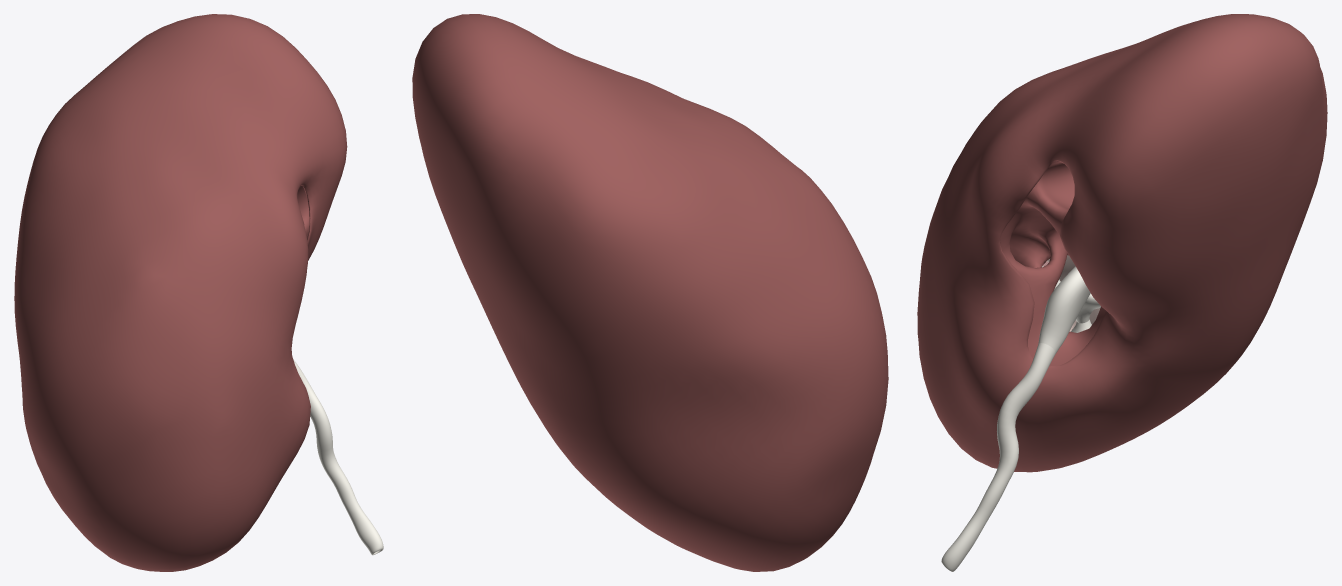
Rendered from VH_F_Kidney_Right.glb.
The picture shows the model from 3 angles, left to right: view 1: azimuth 30°, elevation 25°; view 2: azimuth 150°, elevation 25°; view 3: azimuth 270°, elevation 25°; orthographic projection. The views are drawn at different scales.
Visible parts, largest first — view 1: VHF_kidney_capsule_R, VHF_ureter_R_a; view 2: VHF_kidney_capsule_R; view 3: VHF_kidney_capsule_R, VHF_hilum_of_kidney_R, VHF_ureter_R_a, VHF_renal_pelvis_R.
Boxes of the visible parts, left/top/right/bottom form: VHF_kidney_capsule_R: left=14, top=14, right=347, bottom=571; VHF_ureter_R_a: left=293, top=359, right=383, bottom=555; VHF_kidney_capsule_R: left=412, top=14, right=888, bottom=571; VHF_kidney_capsule_R: left=917, top=14, right=1327, bottom=472; VHF_hilum_of_kidney_R: left=1000, top=161, right=1105, bottom=366; VHF_ureter_R_a: left=941, top=343, right=1055, bottom=571; VHF_renal_pelvis_R: left=1038, top=266, right=1090, bottom=353.
Bounding box in the file's own units: 0.0734 × 0.099 × 0.0695.
